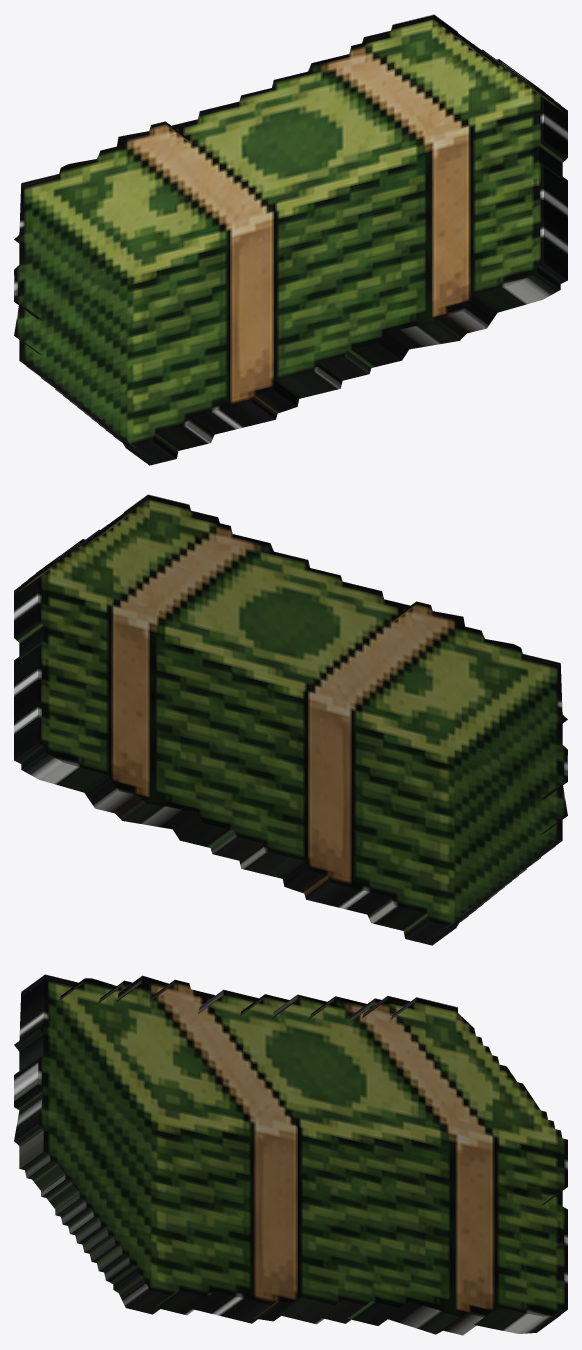
File: money_large.glb
The picture shows the model from 3 angles, top to bottom: view 1: azimuth 30°, elevation 25°; view 2: azimuth 150°, elevation 25°; view 3: azimuth 330°, elevation 25°; orthographic projection.
Visible parts, largest first — view 1: world; view 2: world; view 3: world.
Part boxes in pixels (<box>): world: <box>14,14,567,465</box>; world: <box>14,494,567,945</box>; world: <box>14,974,567,1335</box>.
Bounding box in the file's own units: 2.94 × 1.9 × 0.2292.
Materials: 1 (1 with a texture image).
